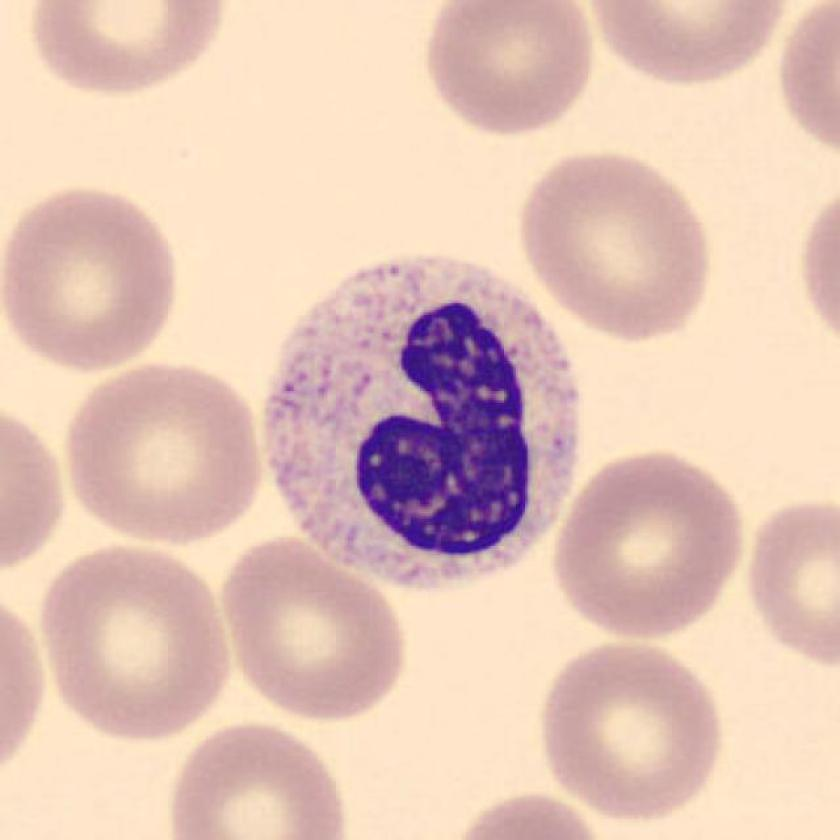neutrophil: (265, 253, 580, 590)
